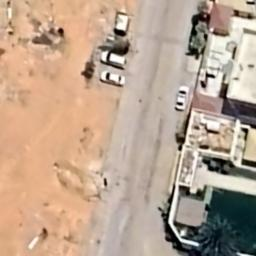SUV: (98, 48, 130, 70)
sedan: (96, 70, 128, 88), (113, 8, 129, 40), (174, 83, 189, 113)
